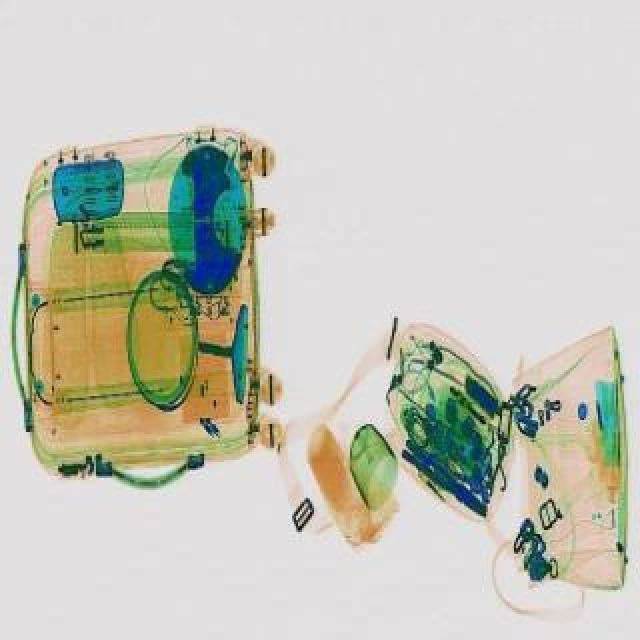wrench: (394, 434, 494, 516)
